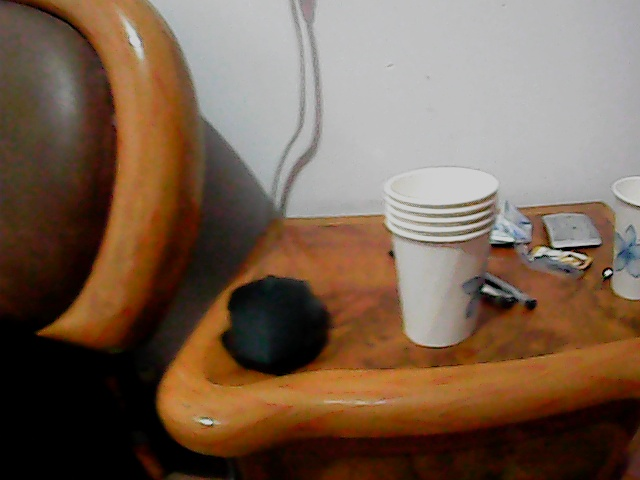cup: (384, 166, 496, 348)
mouse: (216, 269, 328, 370)
